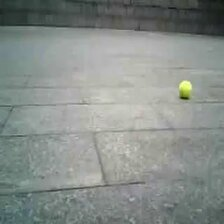tennis: (179, 80, 193, 99)
